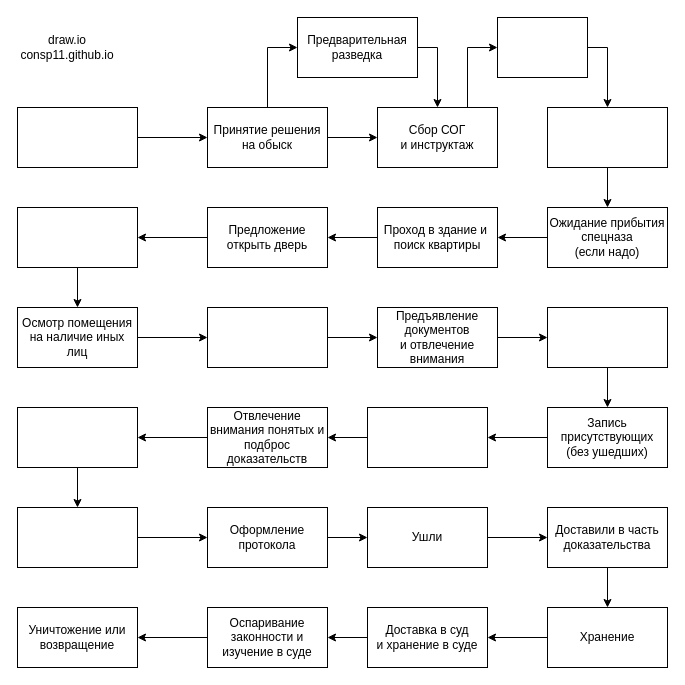
Image size: 685x685. Some labels were removed from this diagram. The shapes that lost their labels are listed below. From the top down, each one's centre as x and y in pixels, then its label:
At (542,47): "Выезд на место".
At (77,137): "Получение информации или заказа".
At (607,137): "Подбор понятых".
At (77,237): "Выламывание или заход".
At (267,337): "Подбрасывание доказательств".
At (607,337): "Заход понятых".
At (77,437): "Продолжение обыска".
At (427,437): "Обыск".
At (77,537): "Опечатывание изъятого".
